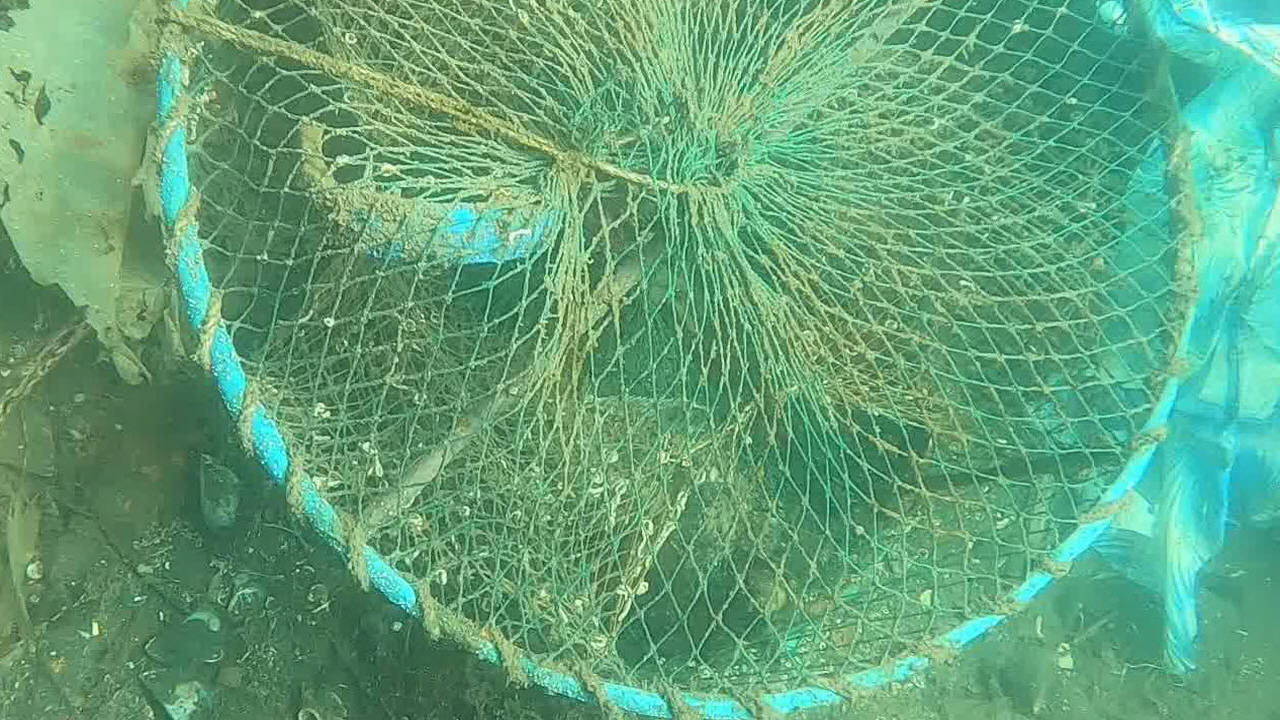circular fish trap: (157, 0, 1200, 720)
